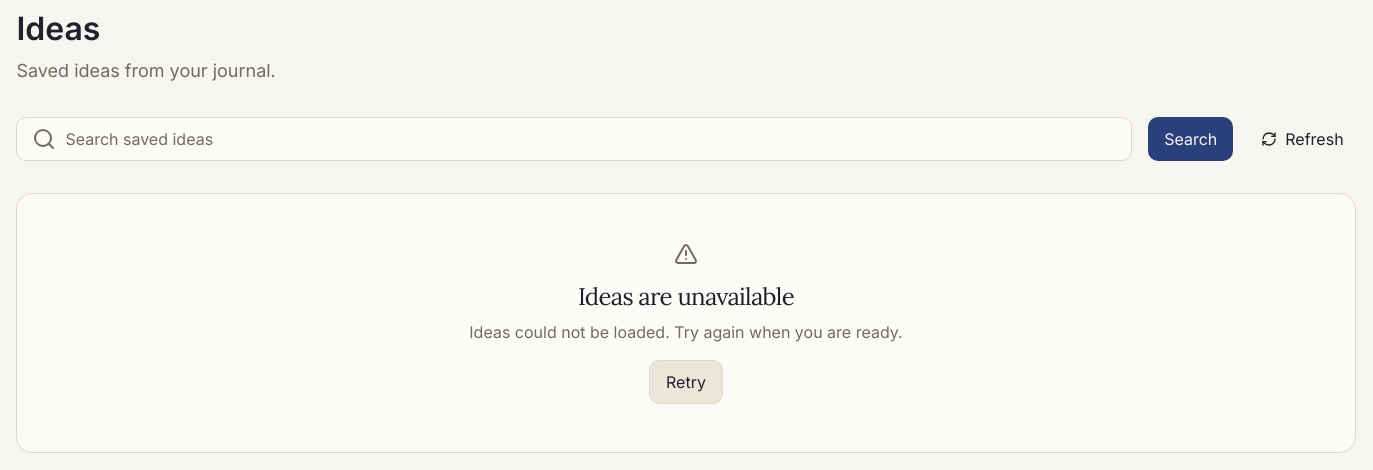
Test: SavedItemsScreen › renders a retry action when loading fails
The width and height of the screenshot is (1373, 470).
Expected: the heading "Ideas are unavailable" is shown, [578,281,794,312]
What coordinates should you click on to do the following:
click the button "Retry"
I would click on:
 (686, 382)
Its box is [649,360,723,404].
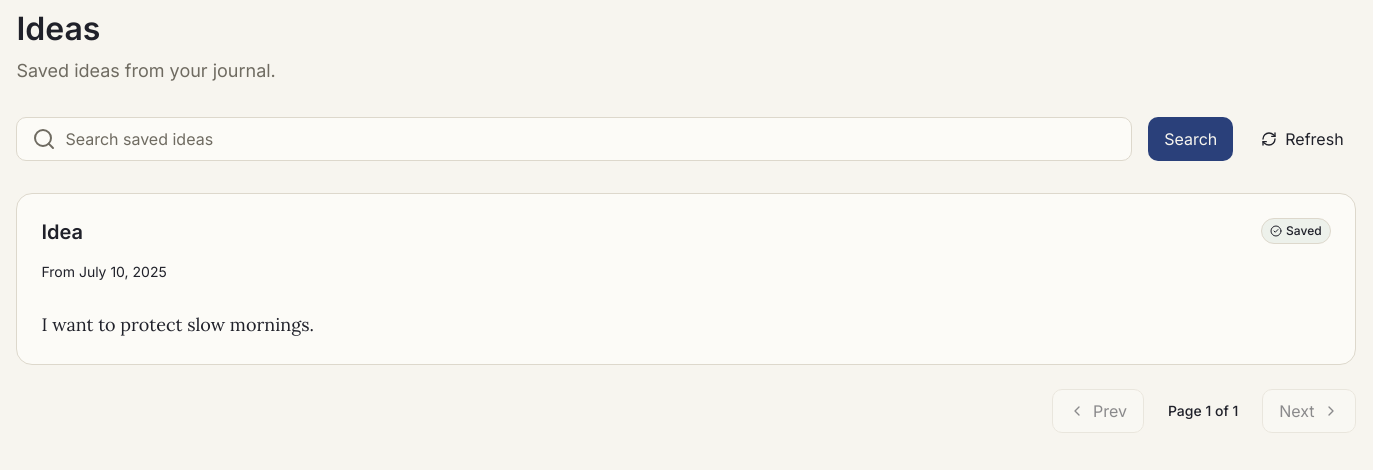
Now the text "I want to protect slow mornings." is shown, box [41,313,314,336]
